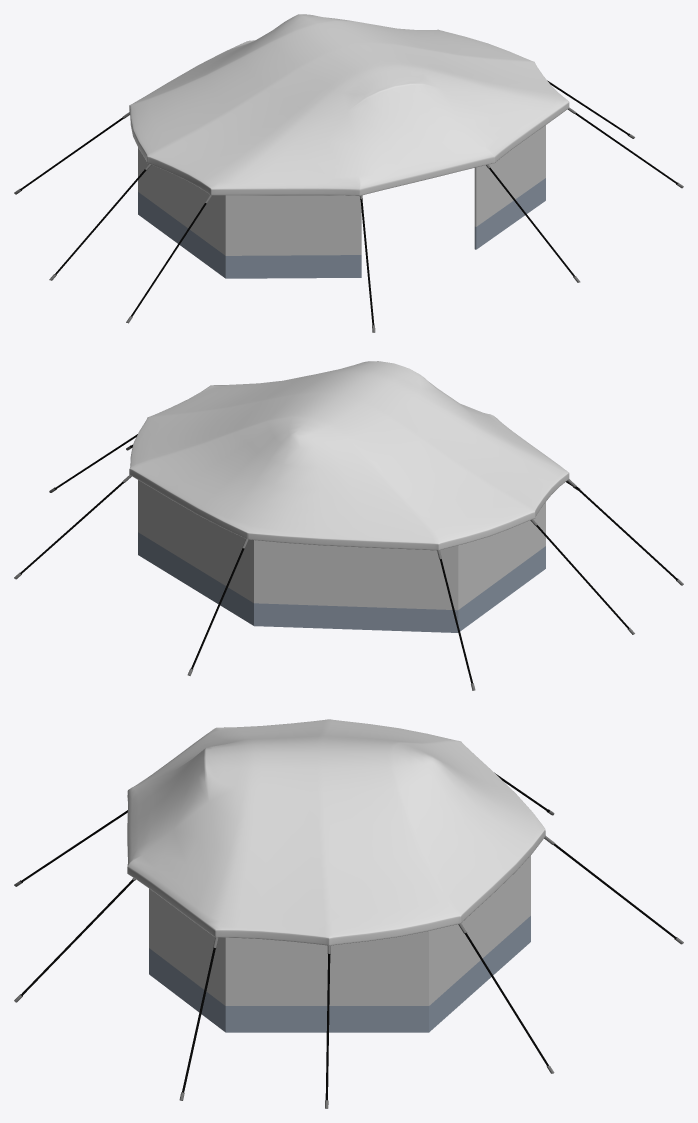
Rendered from Cabana 1.fbx.
3 renders of one model, top to bottom at view 1: azimuth 30°, elevation 25°; view 2: azimuth 150°, elevation 25°; view 3: azimuth 270°, elevation 25°, orthographic. The views are drawn at different scales.
Parts seen in each view (by area): view 1: Cabana; view 2: Cabana; view 3: Cabana.
Boxes of the visible parts, x1,y1,x2,y2 form: Cabana: [14, 14, 683, 332]; Cabana: [14, 361, 683, 690]; Cabana: [14, 719, 683, 1108].
Bounding box in the file's own units: 384 × 104 × 329.
